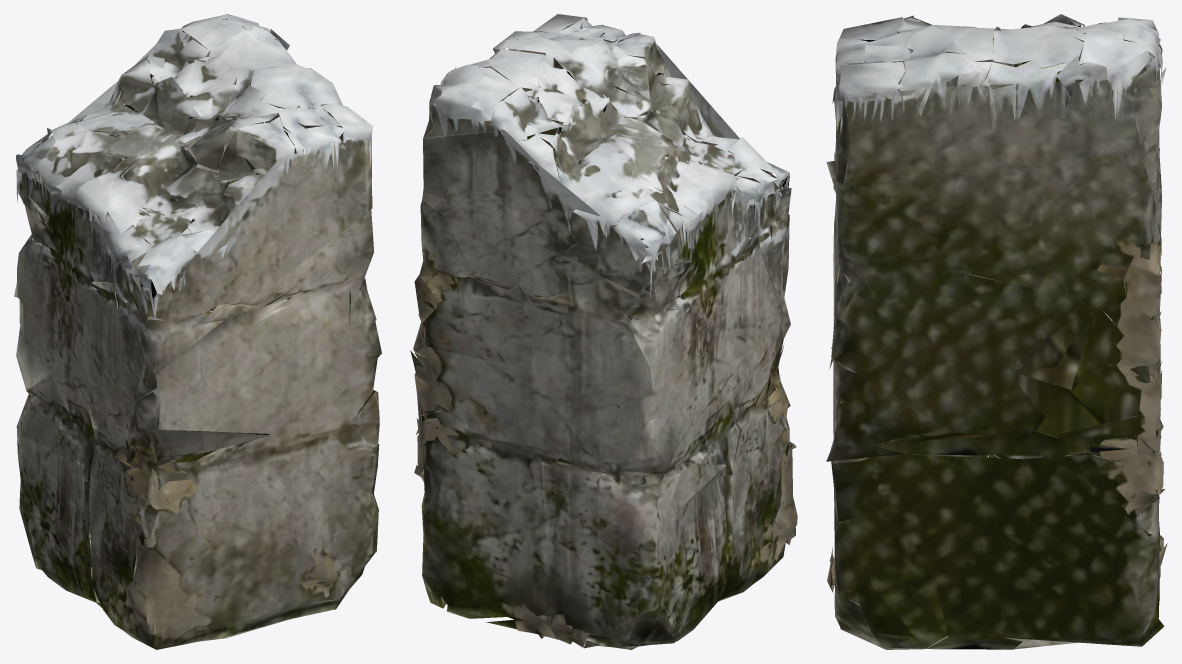
File: ruin_waste.glb
The picture shows the model from 3 angles, left to right: view 1: azimuth 30°, elevation 25°; view 2: azimuth 150°, elevation 25°; view 3: azimuth 270°, elevation 25°; orthographic projection. The views are drawn at different scales.
Parts seen in each view (by area): view 1: ruin_waste_p2; view 2: ruin_waste_p2; view 3: ruin_waste_p2.
Boxes of the visible parts, bbox=[...] form: ruin_waste_p2: bbox=[14, 14, 381, 649]; ruin_waste_p2: bbox=[410, 14, 797, 649]; ruin_waste_p2: bbox=[826, 14, 1167, 649].
Size of the model in its own units: 0.9716 by 1.98 by 1.01.
1 material, 1 textured.
